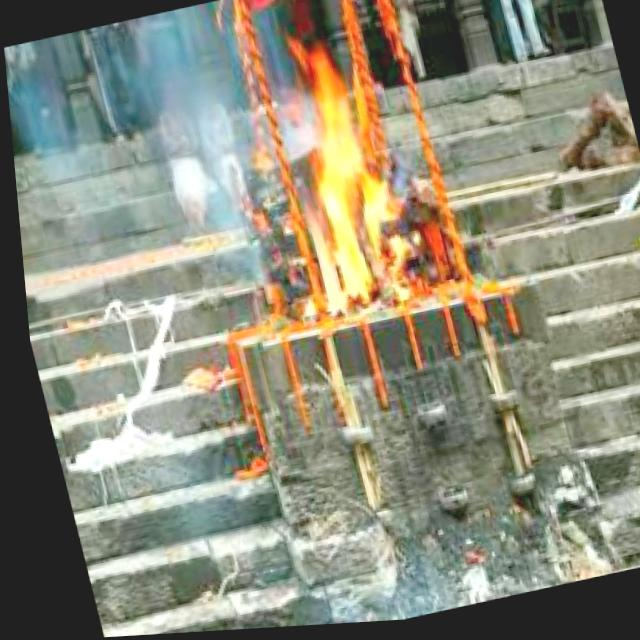Fire: (257, 52, 420, 328)
